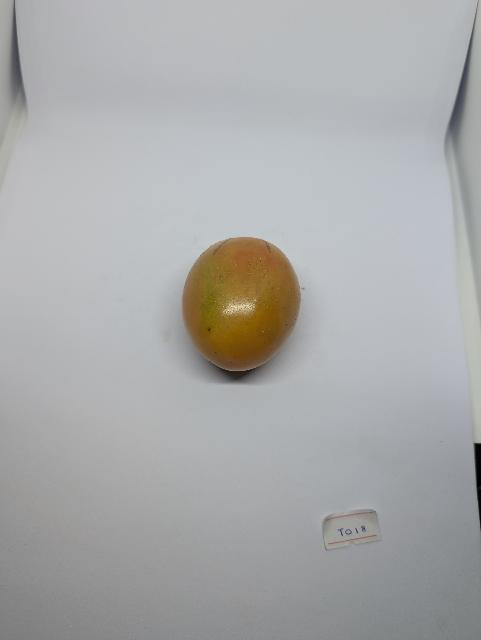turning: (171, 229, 314, 387)
